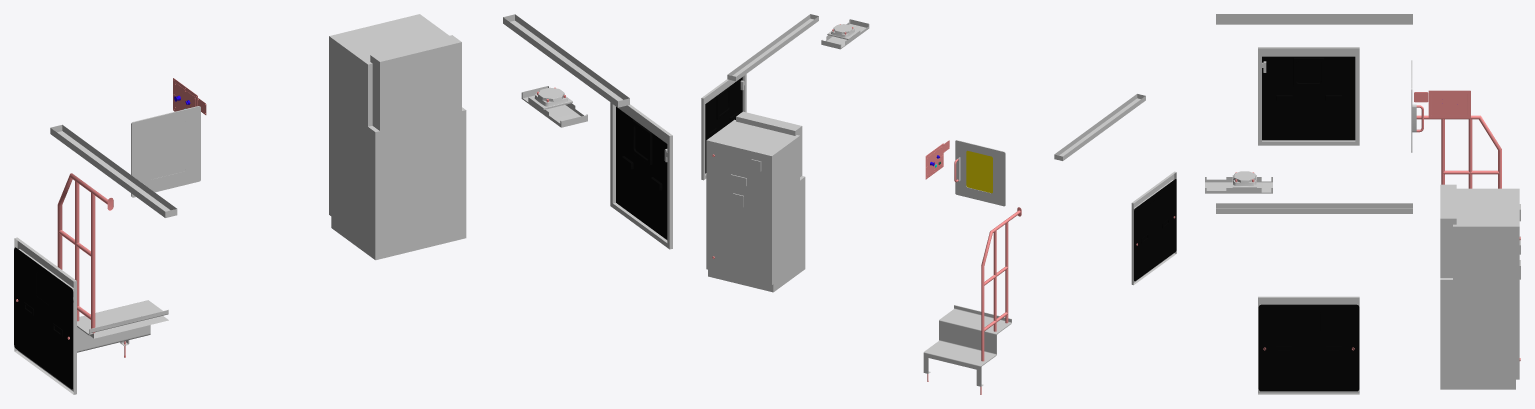
File: SM_Mainbody_02.fbx
3 views of the same model, side by side, from view 1: azimuth 30°, elevation 25°; view 2: azimuth 150°, elevation 25°; view 3: azimuth 270°, elevation 25° (orthographic). The views are drawn at different scales.
Parts seen in each view (by area): view 1: SM_Mainbody_02; view 2: SM_Mainbody_02; view 3: SM_Mainbody_02.
Part boxes in pixels (x1,y1,x2,y2): SM_Mainbody_02: (14,14,672,394); SM_Mainbody_02: (701,14,1176,394); SM_Mainbody_02: (1205,14,1520,394).
Bounding box in the file's own units: 491 × 242 × 260.
